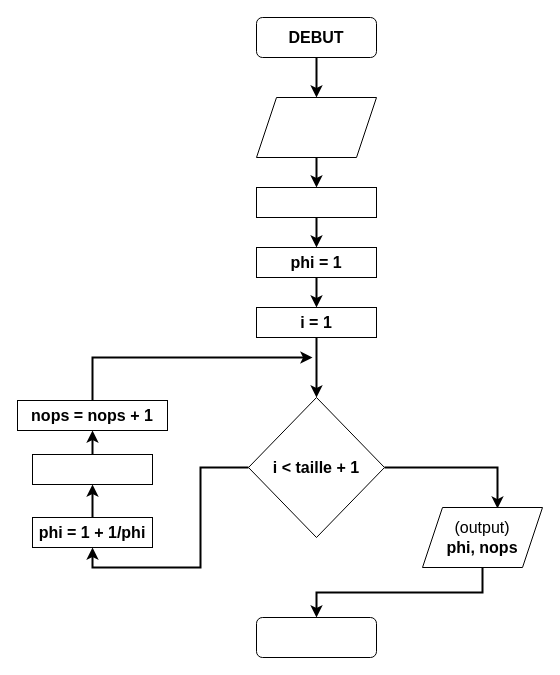
The diagram is 560 pixels wide and 675 high, and some of its shapes have lost their labels. The shapes that lost their labels are listed below. From the top down, each one's centre as x and y in pixels, then its label:
pixel 316 127: (input) taille
pixel 316 202: nops = 0
pixel 92 469: i = i + 1
pixel 316 637: FIN
